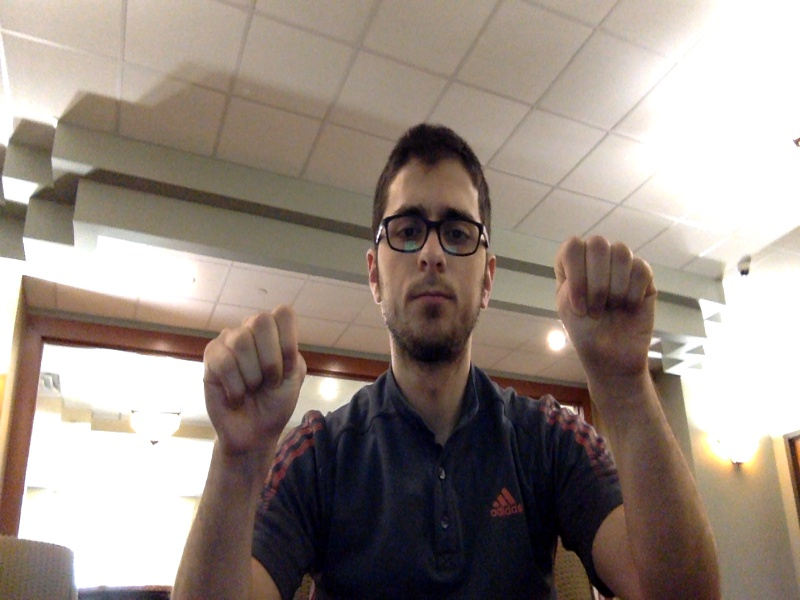0-hand: (203, 306, 306, 453), (555, 237, 655, 375)
